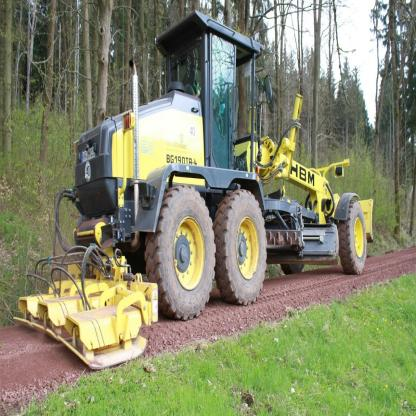bull_dozer/loader/grader: (72, 10, 393, 305)
